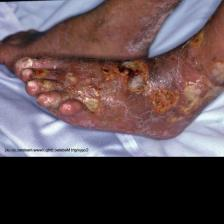Wound: (60, 75, 115, 112), (106, 59, 159, 93), (150, 84, 179, 118)
